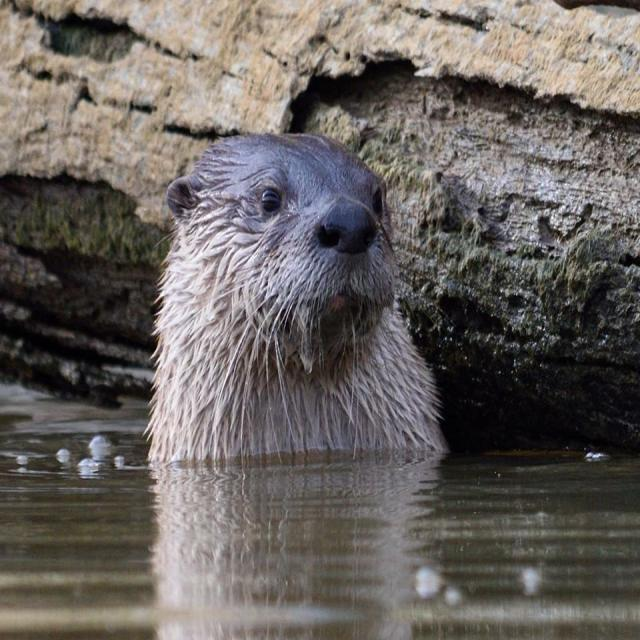Otter: (154, 124, 443, 493)
